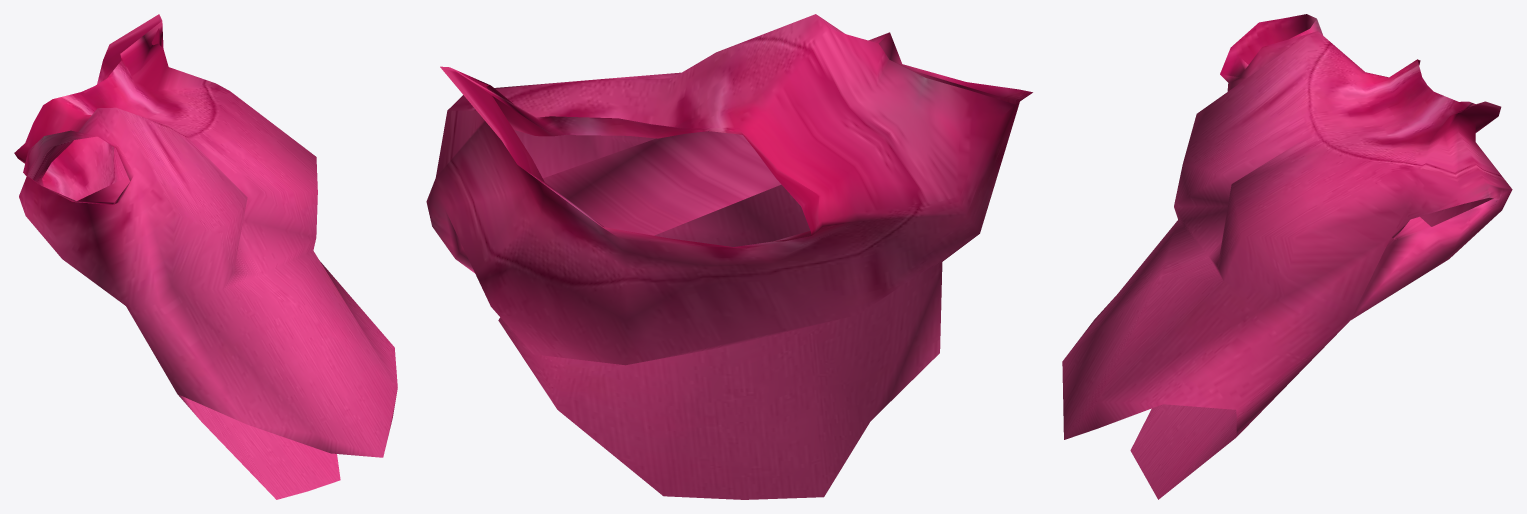
Rendered from Top9.fbx.
The picture shows the model from 3 angles, left to right: view 1: azimuth 30°, elevation 25°; view 2: azimuth 150°, elevation 25°; view 3: azimuth 270°, elevation 25°; orthographic projection. The views are drawn at different scales.
Visible parts, largest first — view 1: F.Top.Shoes.004; view 2: F.Top.Shoes.004; view 3: F.Top.Shoes.004.
Part boxes in pixels (x1=…): F.Top.Shoes.004: x1=14, y1=14, x2=397, y2=499; F.Top.Shoes.004: x1=426, y1=14, x2=1032, y2=499; F.Top.Shoes.004: x1=1062, y1=14, x2=1512, y2=499.
Size of the model in its own units: 336 by 368 by 391.
